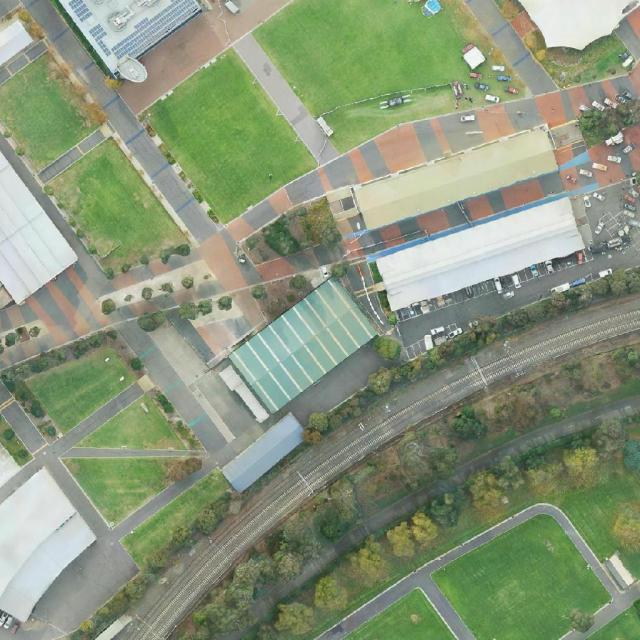building: (374, 196, 586, 313), (351, 125, 560, 232), (227, 275, 379, 416), (0, 152, 79, 305), (220, 412, 310, 494)
greenland: (383, 325, 640, 491), (359, 254, 640, 398), (142, 46, 318, 230), (249, 0, 475, 125), (44, 136, 188, 290), (555, 450, 640, 590), (25, 329, 137, 434), (65, 457, 202, 524), (380, 481, 478, 565), (554, 410, 640, 492), (258, 196, 344, 269), (11, 325, 120, 382), (79, 395, 185, 449), (344, 589, 455, 639), (301, 385, 382, 441), (462, 453, 531, 515), (348, 450, 394, 517), (254, 599, 318, 640), (346, 536, 396, 585), (314, 575, 349, 613), (525, 459, 567, 489), (369, 331, 405, 365), (320, 575, 348, 611), (288, 602, 316, 636)
metalled_road: (239, 373, 640, 621), (20, 0, 219, 245), (411, 387, 640, 506), (113, 313, 229, 457), (232, 32, 340, 168), (396, 269, 572, 348), (282, 340, 390, 435), (463, 0, 558, 103), (32, 445, 115, 540), (46, 381, 146, 459), (111, 462, 210, 540), (545, 241, 640, 293), (35, 128, 108, 186), (163, 304, 218, 365), (61, 447, 206, 458), (615, 7, 640, 58)
